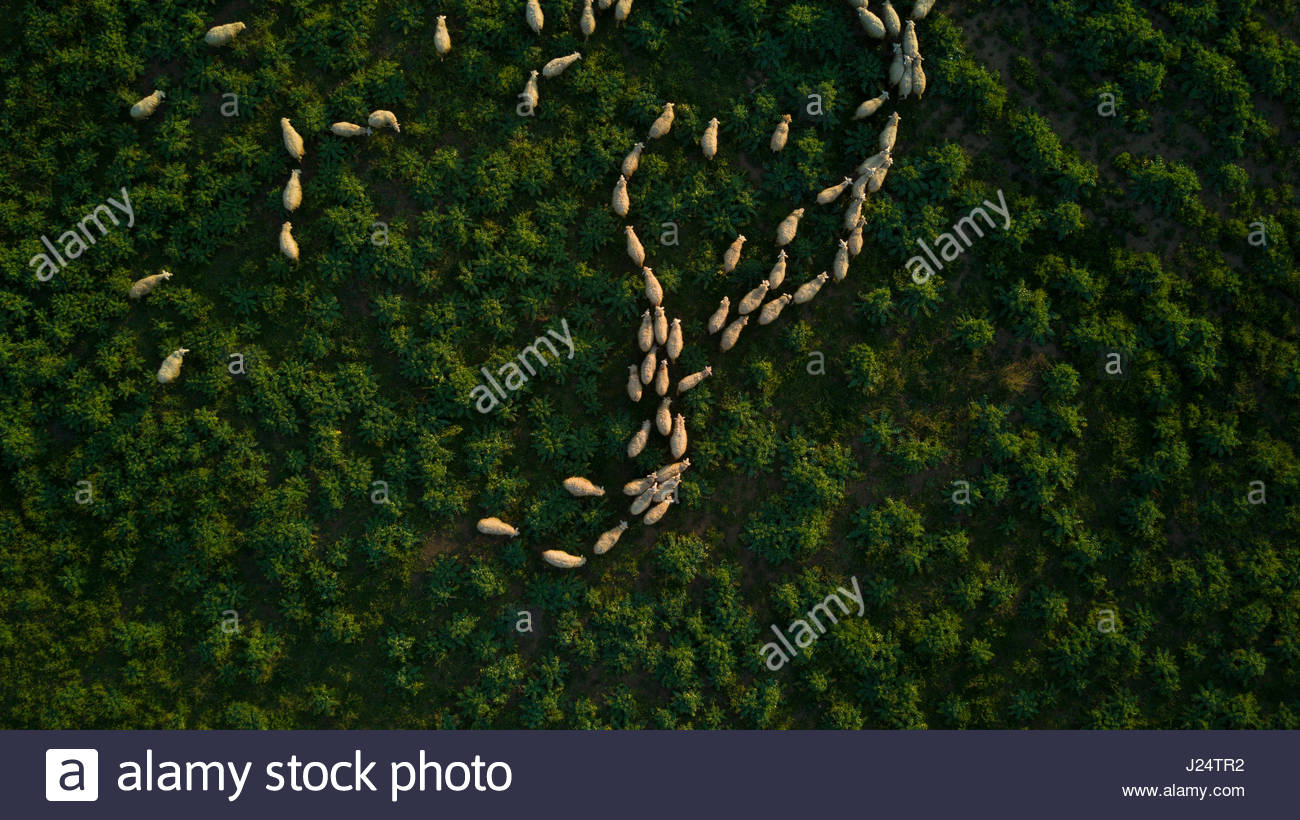sheep: (595, 514, 632, 557), (128, 83, 167, 123), (541, 51, 586, 85), (280, 116, 313, 162), (128, 271, 177, 301), (627, 416, 660, 458), (792, 269, 828, 306), (283, 167, 312, 212), (158, 344, 188, 385), (328, 118, 375, 144), (647, 100, 676, 142), (208, 19, 243, 53), (677, 365, 714, 396), (739, 279, 770, 316), (274, 219, 300, 262), (853, 90, 889, 121), (816, 177, 853, 207), (721, 314, 750, 352), (776, 206, 804, 245), (854, 6, 886, 40), (667, 411, 690, 458), (768, 114, 795, 153), (855, 146, 891, 175), (656, 457, 693, 485), (475, 516, 522, 538), (867, 155, 892, 196), (539, 548, 583, 570), (519, 67, 541, 111), (431, 12, 452, 58), (624, 224, 647, 266), (724, 233, 747, 275), (707, 295, 731, 335), (877, 111, 901, 151), (642, 263, 663, 308), (561, 479, 608, 499), (766, 250, 789, 290), (830, 238, 850, 284), (700, 118, 721, 161), (626, 359, 647, 401), (847, 215, 868, 257), (844, 193, 867, 231), (626, 474, 658, 501), (621, 142, 645, 177), (887, 42, 906, 86), (523, 1, 547, 35), (371, 110, 402, 136), (577, 1, 600, 35), (639, 347, 659, 386), (612, 175, 631, 216), (665, 316, 682, 361), (904, 19, 921, 59), (882, 1, 902, 35), (639, 309, 654, 353), (653, 306, 670, 344), (656, 398, 672, 435), (913, 56, 927, 98), (655, 358, 669, 395), (901, 57, 912, 96)
